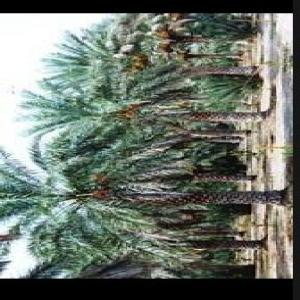palm tree: (0, 12, 286, 278)
